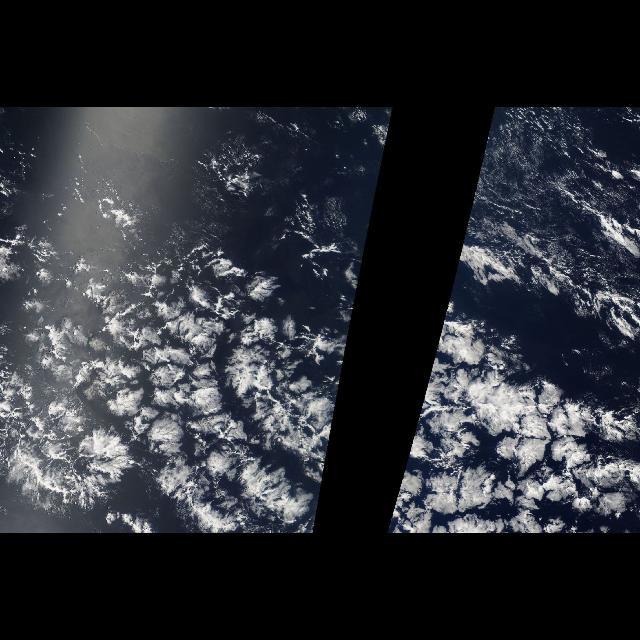Flower: (58, 218, 334, 470)
